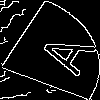A: (24, 25, 99, 77)
